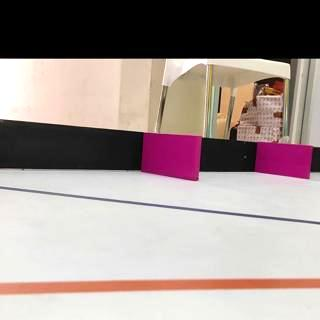xparking: (146, 132, 198, 176), (260, 147, 310, 175)
